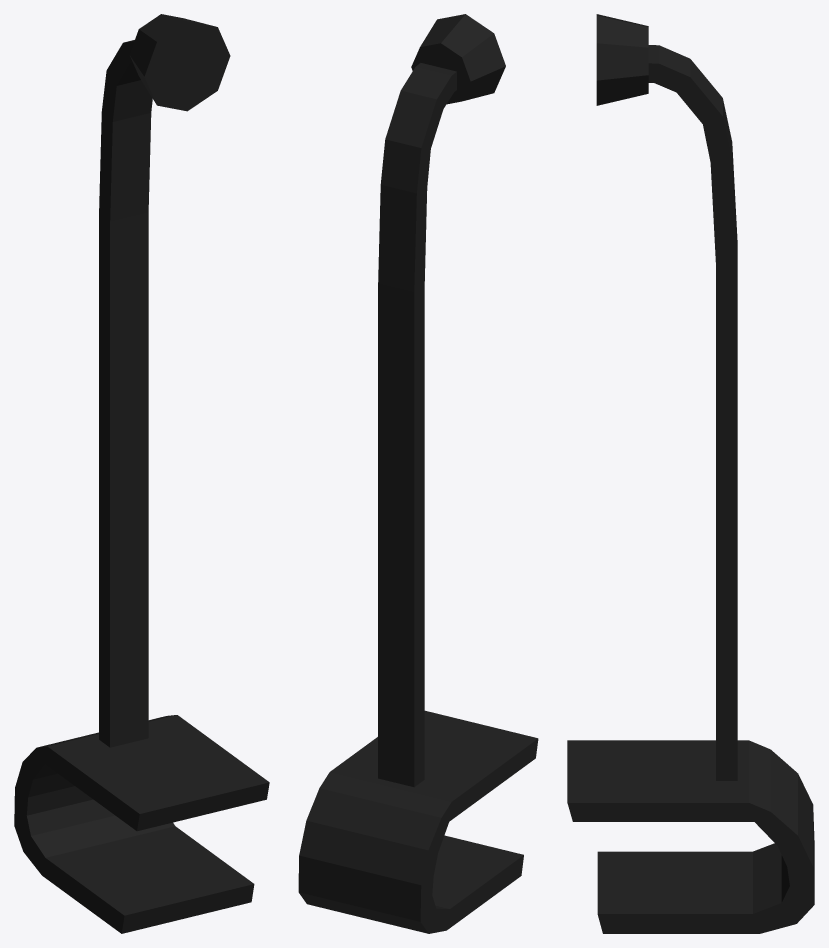
The model's file is Lamp_Support_1.obj.
3 views of the same model, side by side, from view 1: azimuth 30°, elevation 25°; view 2: azimuth 150°, elevation 25°; view 3: azimuth 270°, elevation 25° (orthographic). The views are drawn at different scales.
Parts seen in each view (by area): view 1: Lamp_Support_1; view 2: Lamp_Support_1; view 3: Lamp_Support_1.
Boxes of the visible parts, x1=… form: Lamp_Support_1: x1=14, y1=14, x2=269, y2=933; Lamp_Support_1: x1=298, y1=14, x2=538, y2=933; Lamp_Support_1: x1=567, y1=14, x2=814, y2=933.
Size of the model in its own units: 0.0909 by 0.6014 by 0.152.
